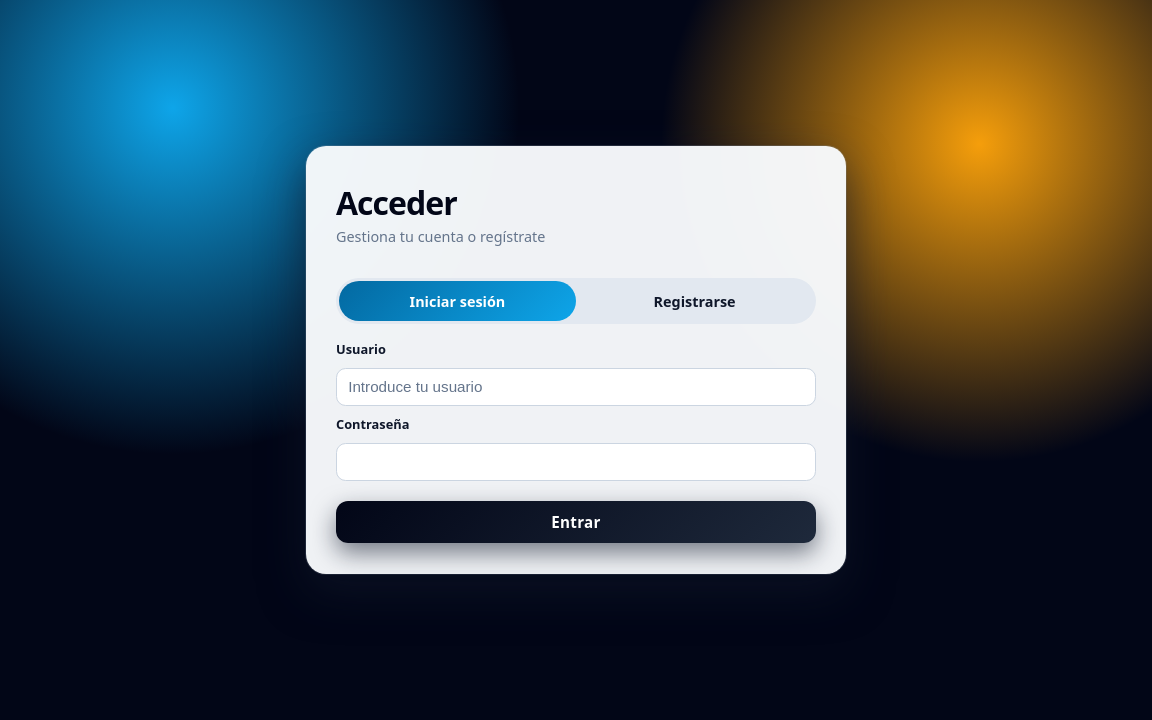
Test: AuthPage › muestra error cuando login devuelve fallo de API
This screenshot has width=1152, height=720.
Type "ana" into the field labelled "Usuario" at (576, 387), box [336,368,816,406]
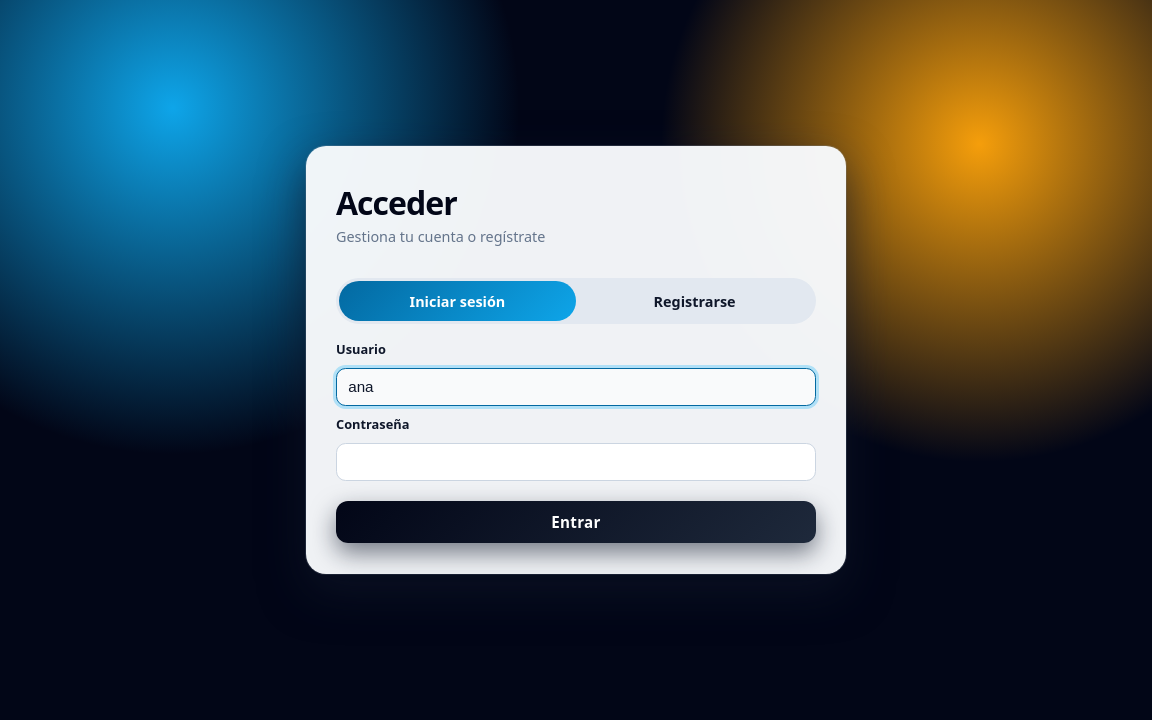
Type "xxx" into the password field labelled "Contraseña" at (576, 462), box [336,443,816,481]
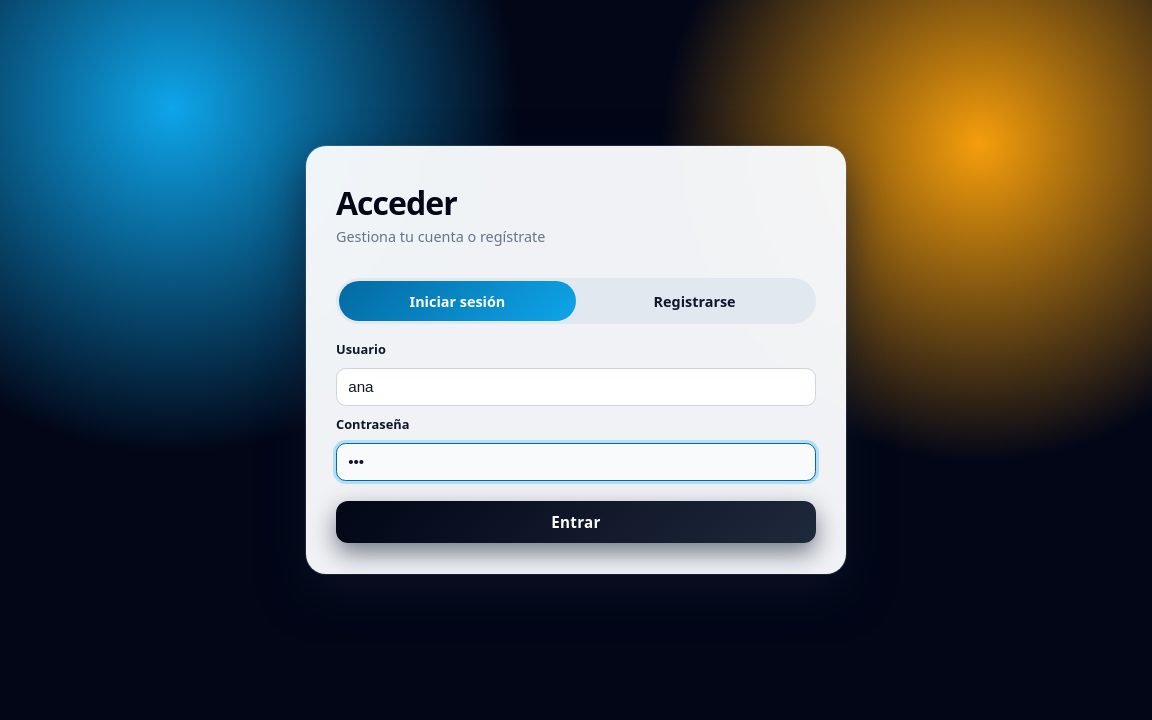
Click the button "Entrar" at (576, 522), box [336,501,816,543]
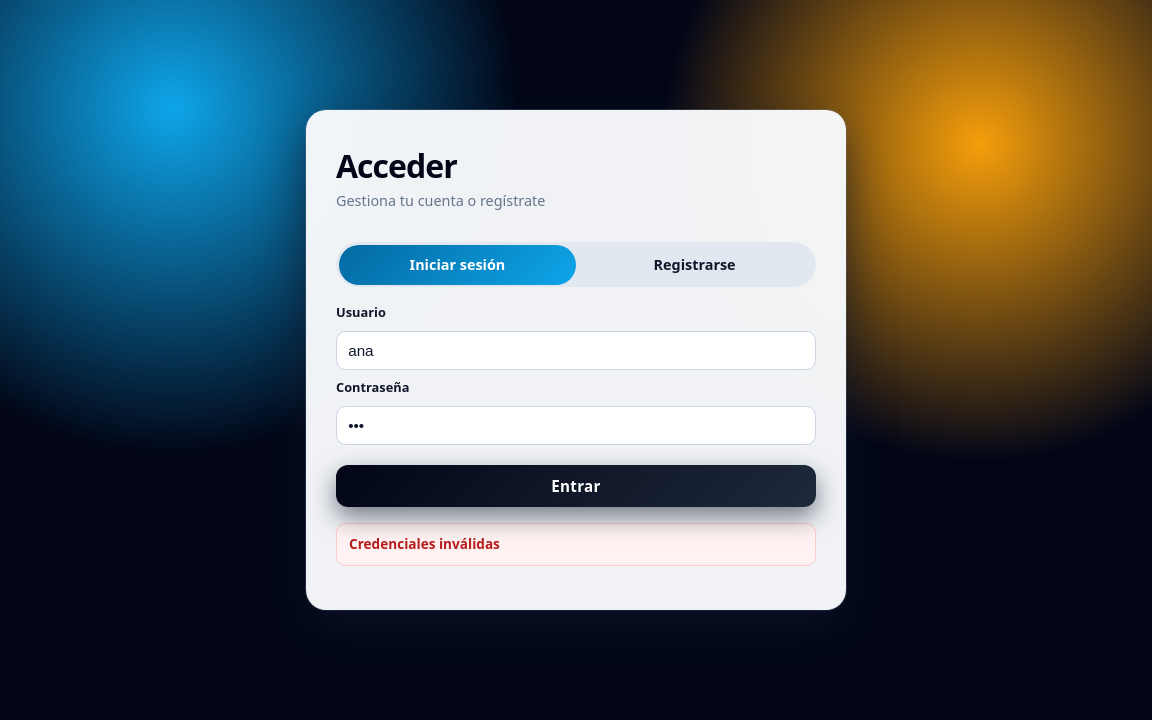
Check: the text "Credenciales inválidas" is shown, box [336,523,816,566]
